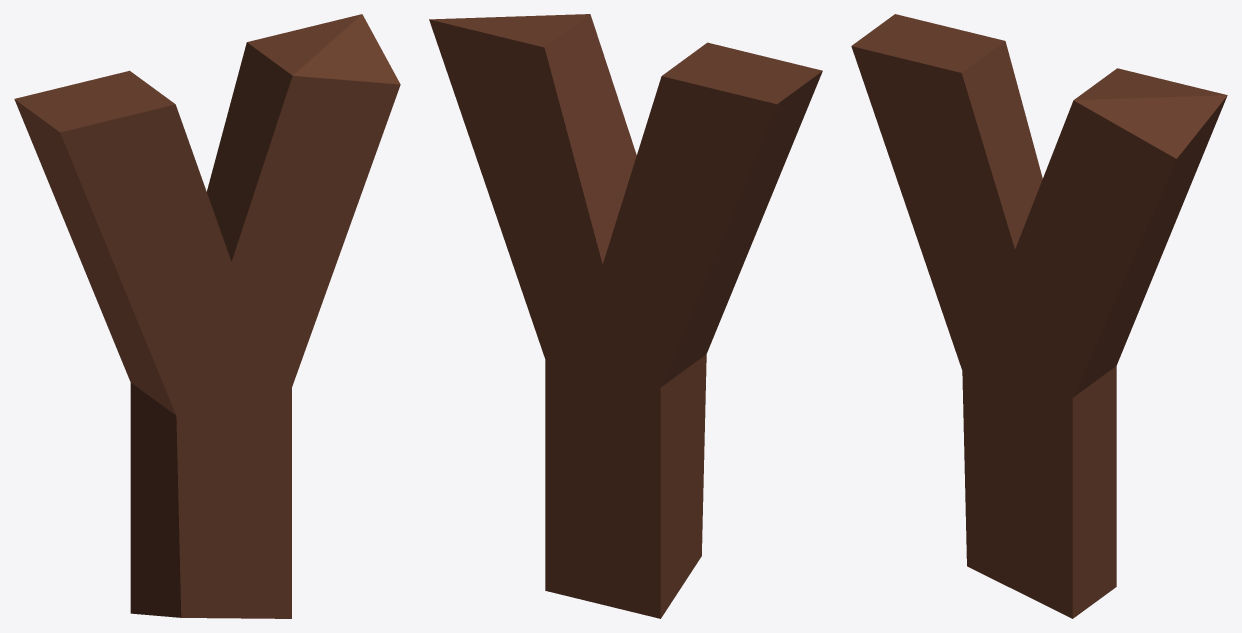
The model's file is SM_Sign_3dText_Letter_Y.obj.
3 views of the same model, side by side, from view 1: azimuth 30°, elevation 25°; view 2: azimuth 150°, elevation 25°; view 3: azimuth 330°, elevation 25° (orthographic). The views are drawn at different scales.
Parts seen in each view (by area): view 1: SM_Sign_3dText_Letter_Y_0; view 2: SM_Sign_3dText_Letter_Y_0; view 3: SM_Sign_3dText_Letter_Y_0.
Part boxes in pixels (left/top/right/bottom): SM_Sign_3dText_Letter_Y_0: left=14, top=14, right=400, bottom=618; SM_Sign_3dText_Letter_Y_0: left=429, top=14, right=822, bottom=618; SM_Sign_3dText_Letter_Y_0: left=851, top=14, right=1227, bottom=618.
Size of the model in its own units: 0.4789 by 0.7139 by 0.1093.
Materials: 1 (1 with a texture image).
